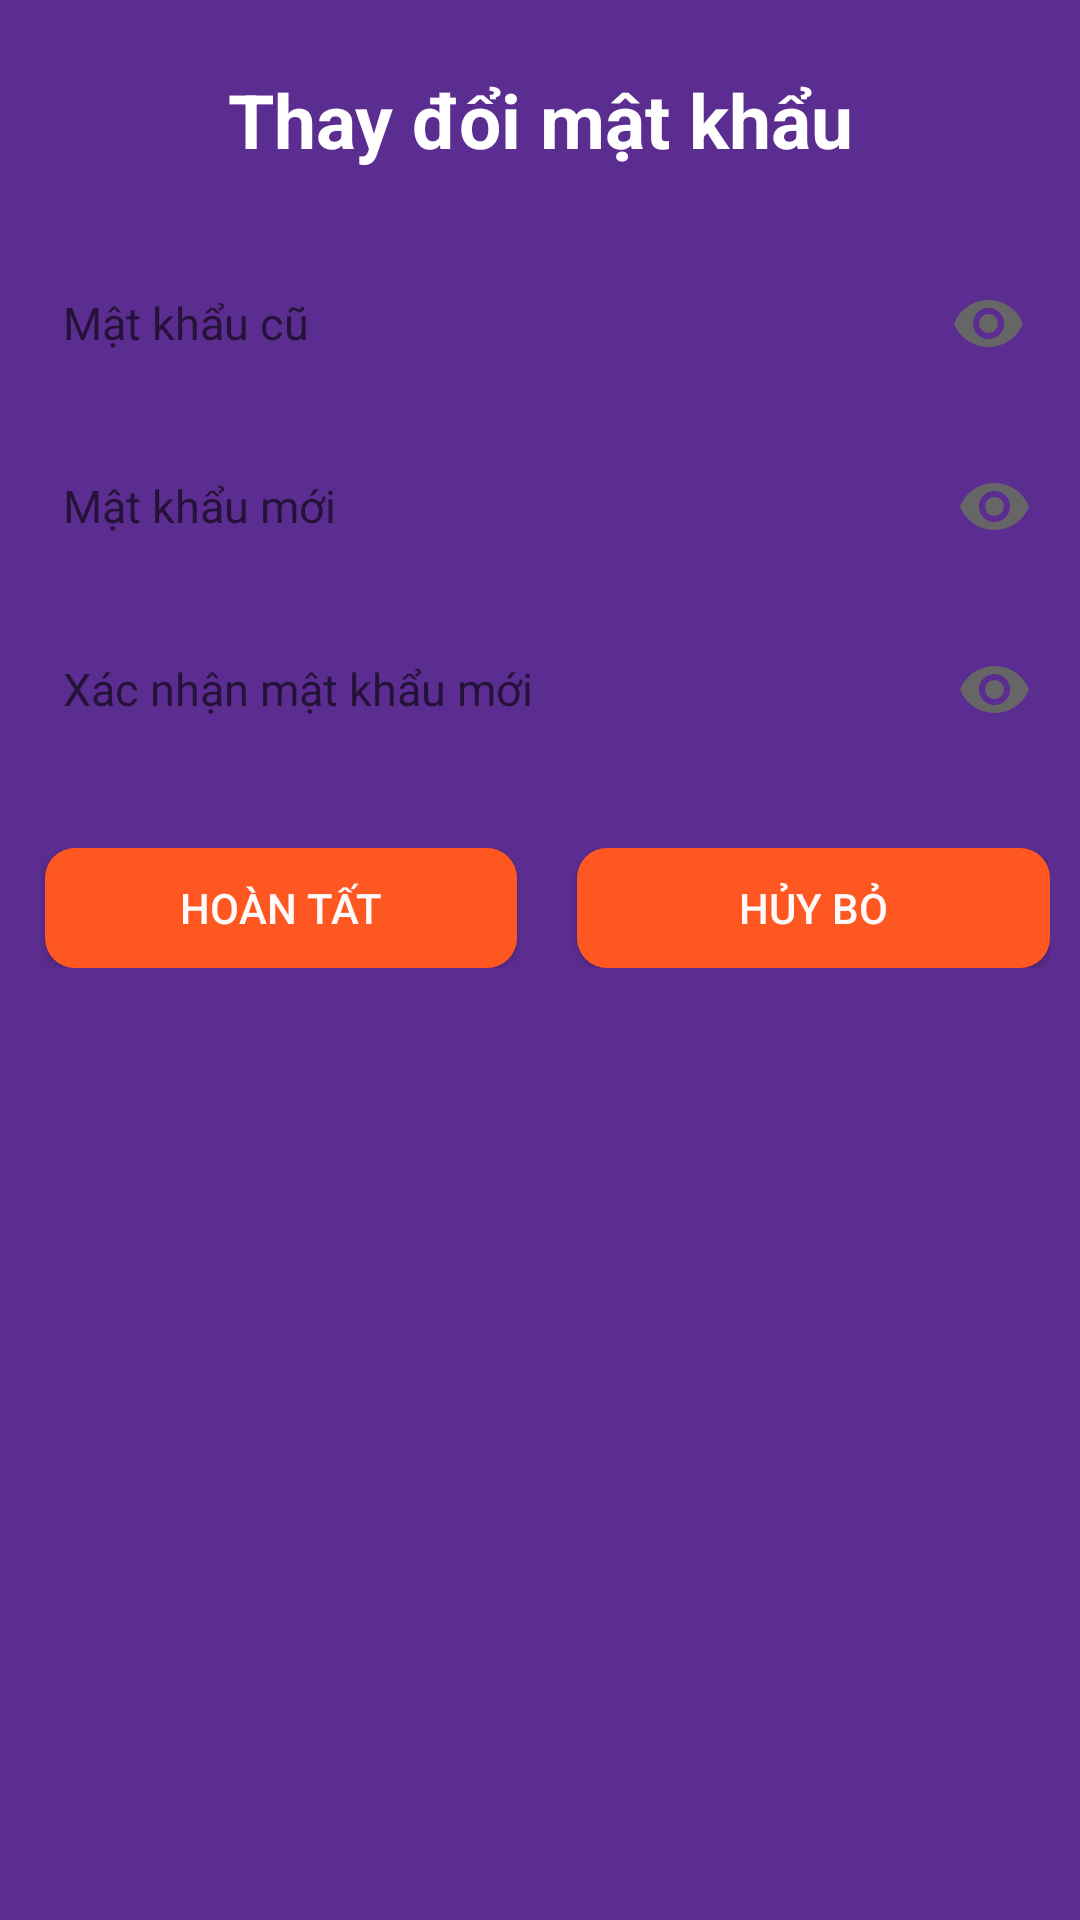

Point at icon controls on the screen. Image size 1080x1920, points as [x,y].
show: [988,323], [994,506], [994,689]
